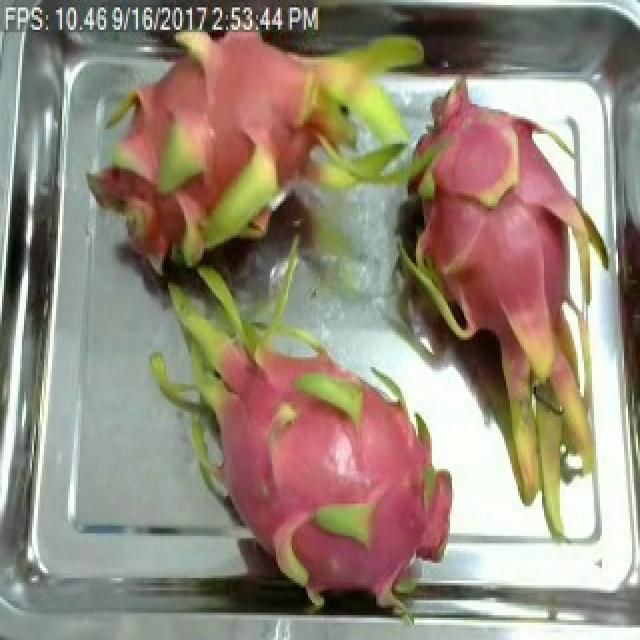Fruit: (404, 449, 472, 580)
